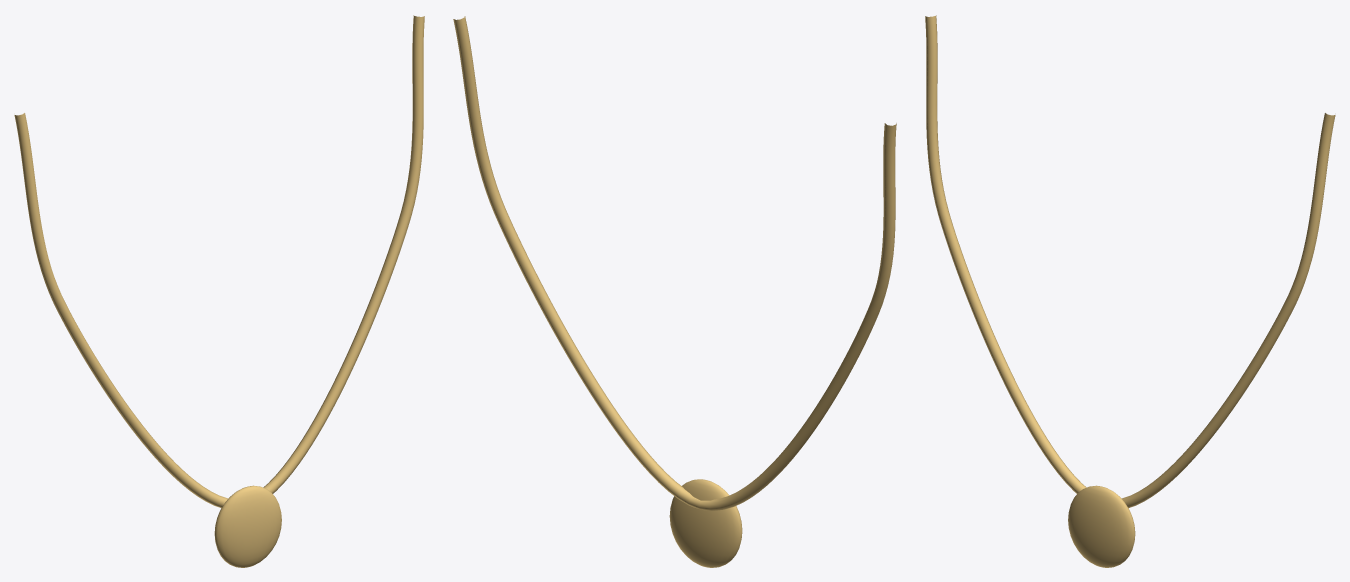
3 views of the same model, side by side, from view 1: azimuth 30°, elevation 25°; view 2: azimuth 150°, elevation 25°; view 3: azimuth 330°, elevation 25° (orthographic). The views are drawn at different scales.
Bounding box in the file's own units: 1.48 × 1.66 × 0.2339.
